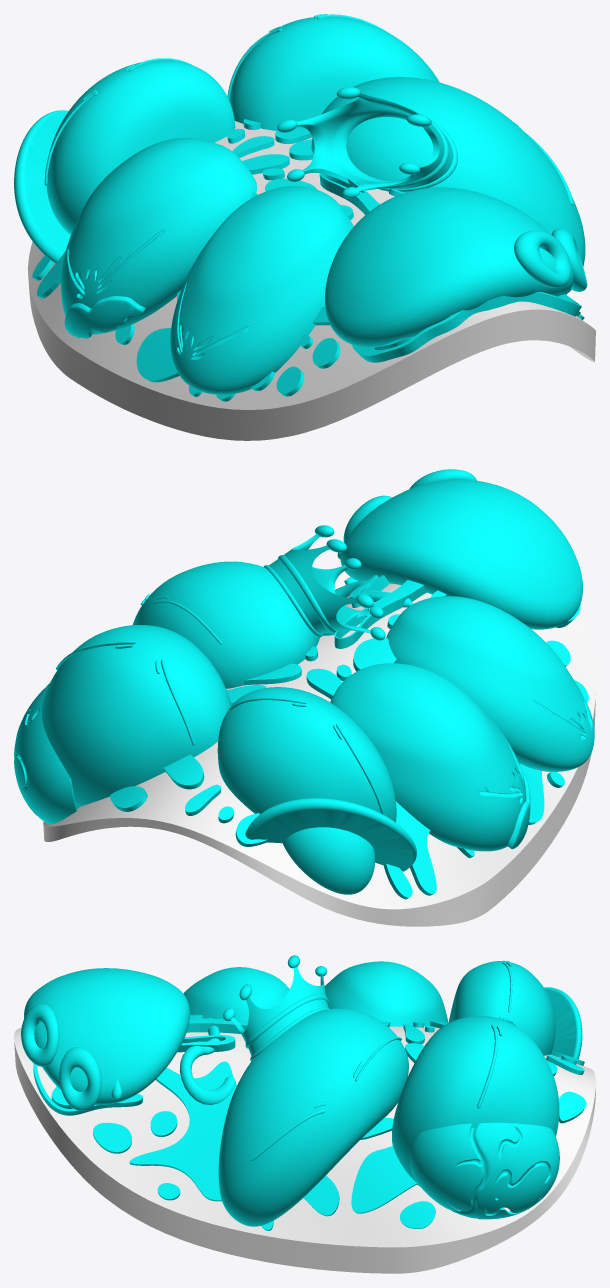
File: rimuru-oval-web.glb
3 views of the same model, one above another, from view 1: azimuth 30°, elevation 25°; view 2: azimuth 150°, elevation 25°; view 3: azimuth 270°, elevation 25° (orthographic). The views are drawn at different scales.
Size of the model in its own units: 0.0149 by 0.00895 by 0.0201.
